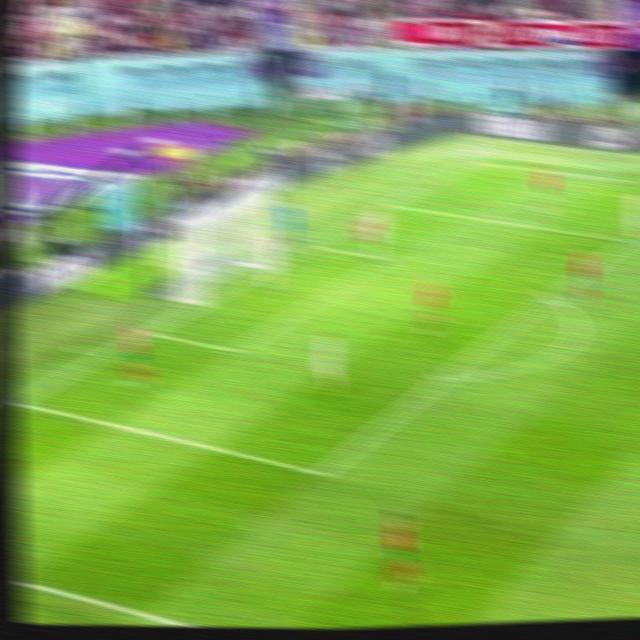bigarea_bottom_inner: (310, 462, 333, 488)
bigarea_bottom_outter: (10, 392, 26, 414)
bigarea_top_inner: (618, 231, 640, 251)
bigarea_top_outter: (380, 199, 399, 212)
bottom_arc_area_intersection: (432, 369, 454, 388)
corner: (464, 158, 482, 167)
smallarea_bottom_inner: (222, 335, 249, 365)
smallarea_bottom_outter: (138, 323, 159, 343)
smallarea_top_inner: (376, 250, 398, 269)
smallarea_top_outter: (302, 238, 322, 255)
top_arc_area_intersection: (537, 285, 565, 311)
